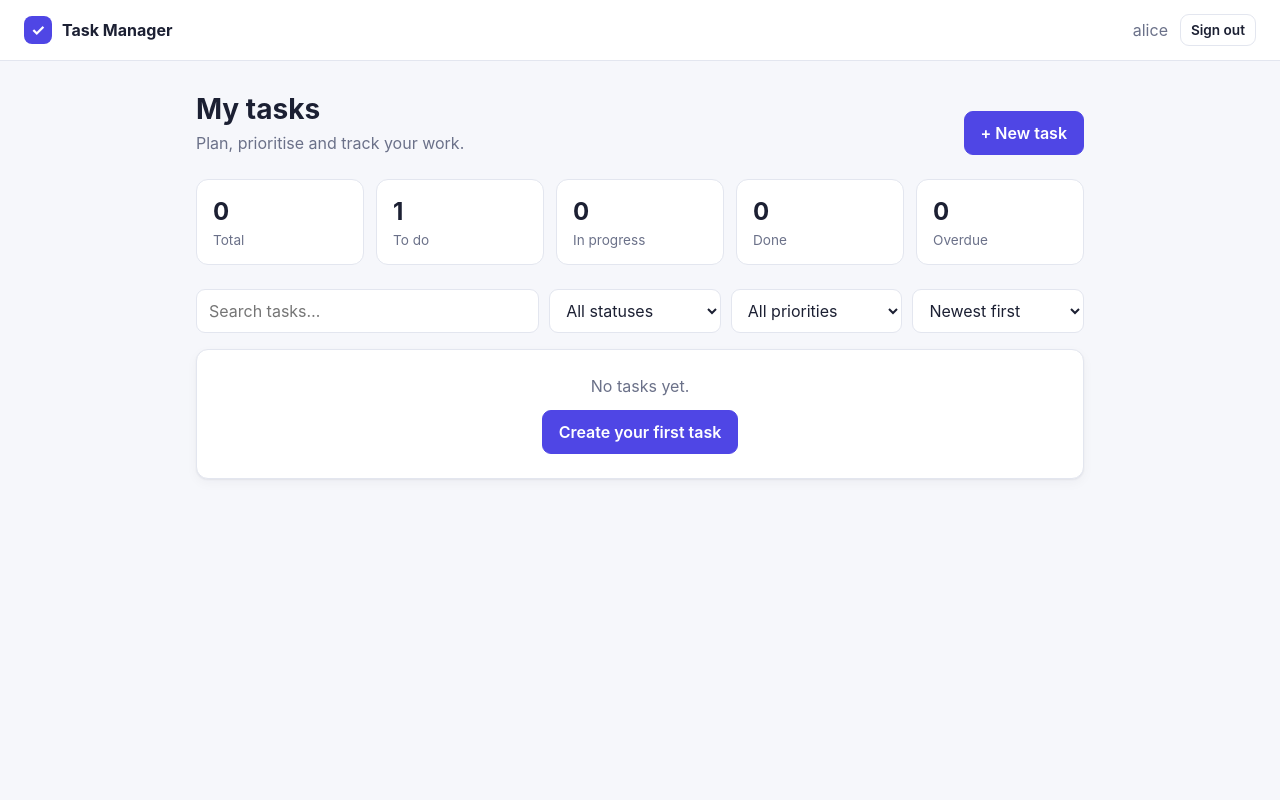
App › creates a task
Expected: the text "No tasks yet." is shown, [591,374,689,398]
Click the button "+ New task" at (1024, 133), box [964,111,1084,155]
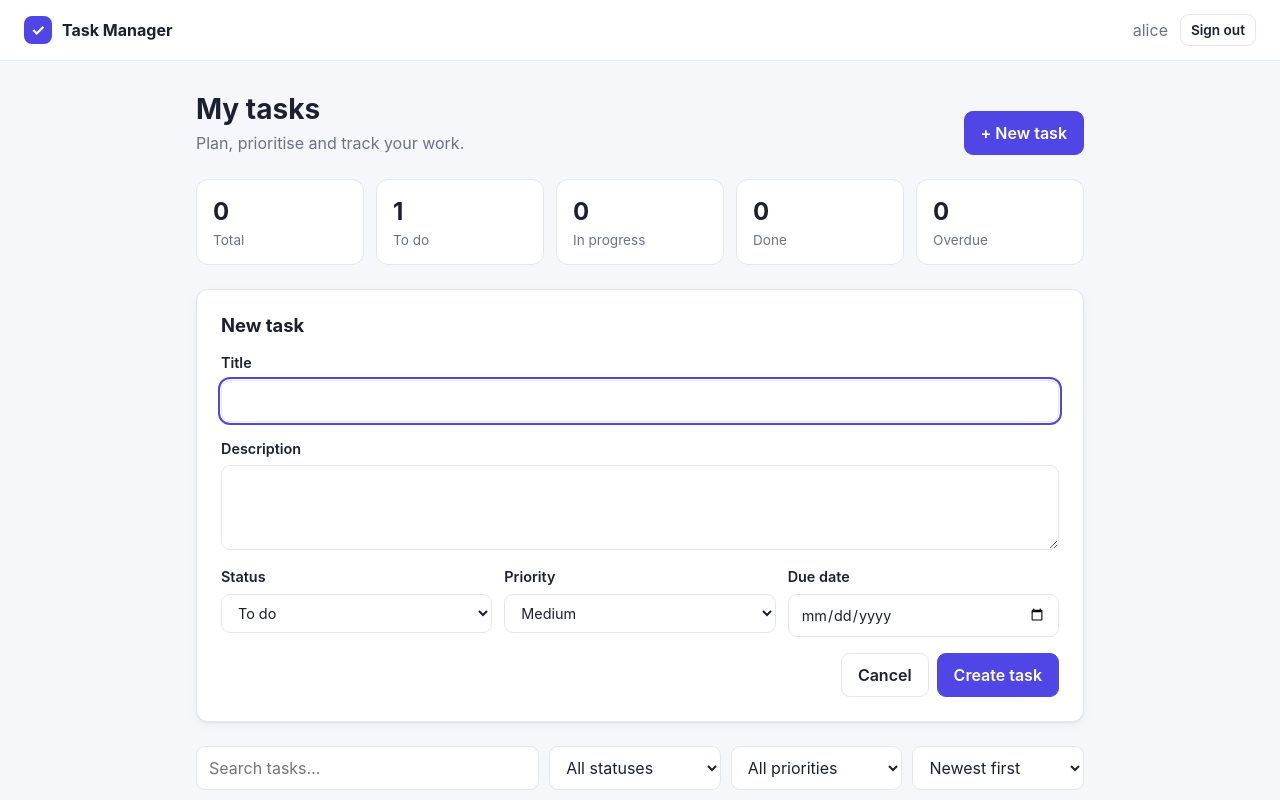
Type "Prepare demo" into the field labelled "Title" at (640, 401), box [221,380,1059,422]
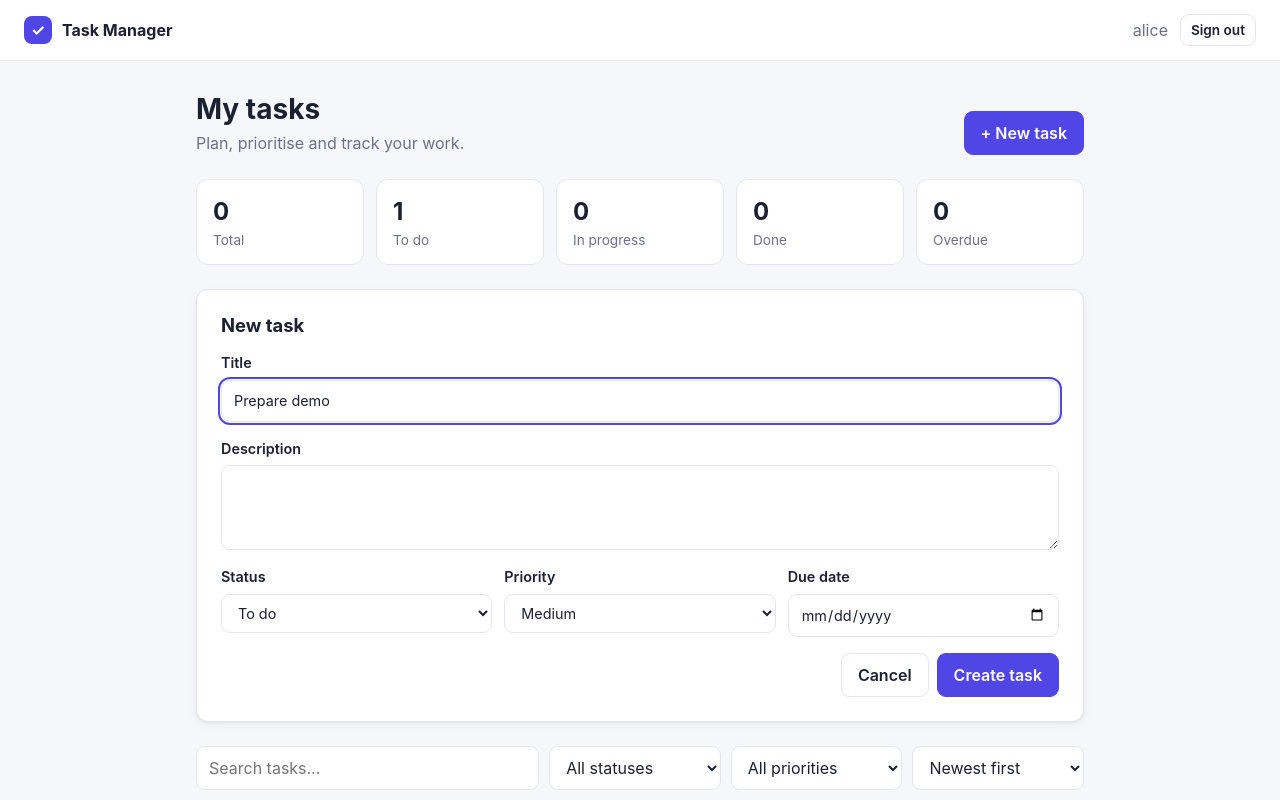
Click the button "Create task" at (998, 675), box [937,653,1059,697]
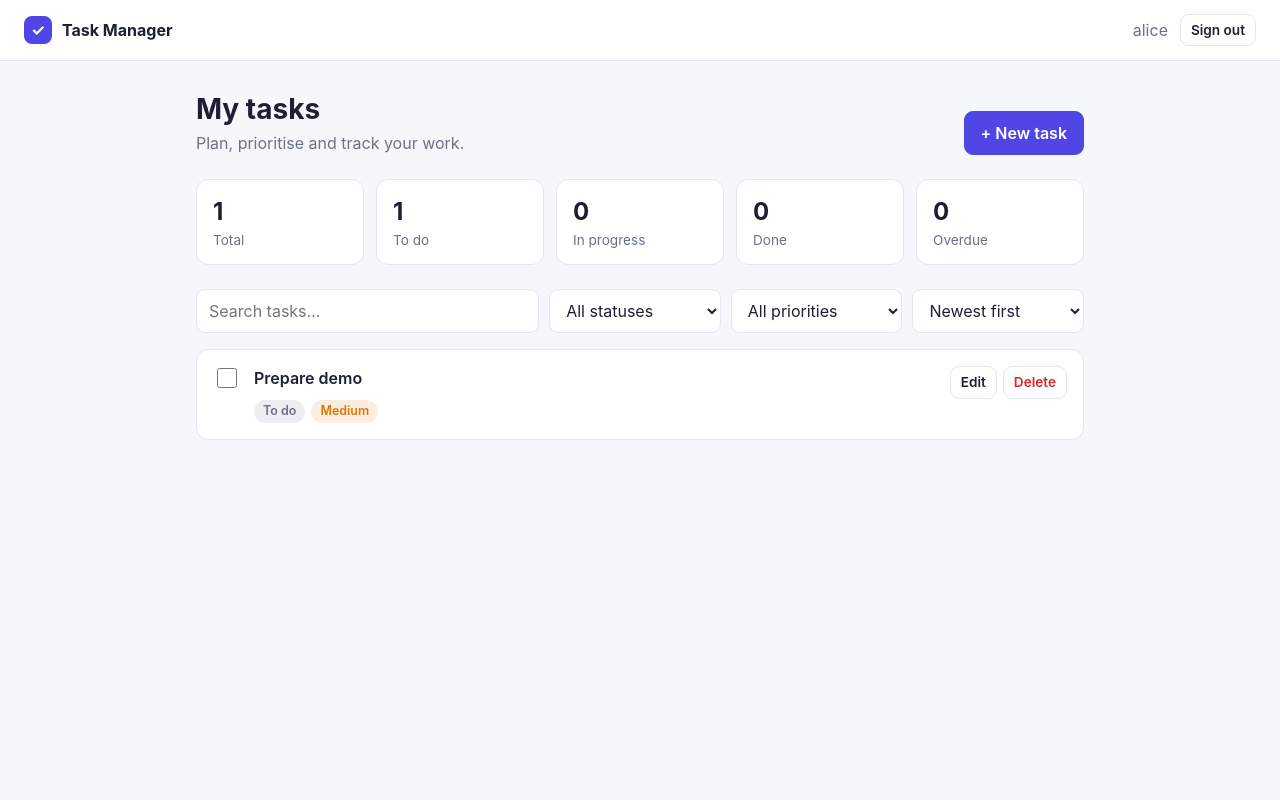
Now the text "Prepare demo" is shown, box [254,368,362,388]
